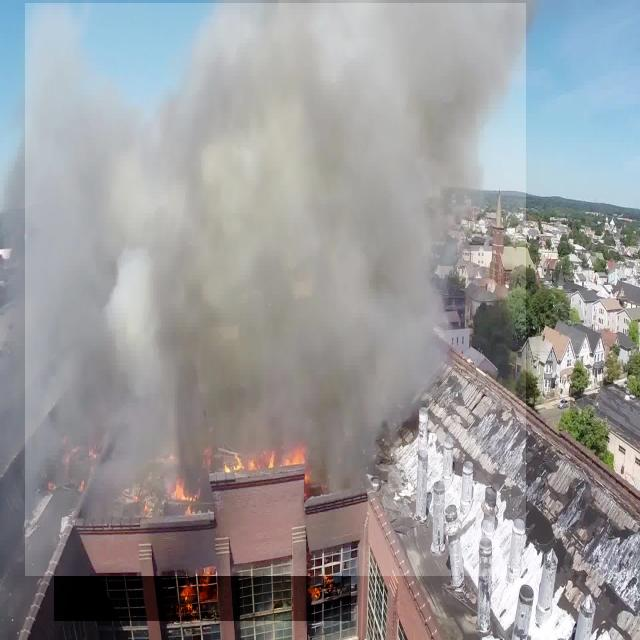Fire: (54, 408, 351, 622)
Smoke: (25, 3, 526, 576)
